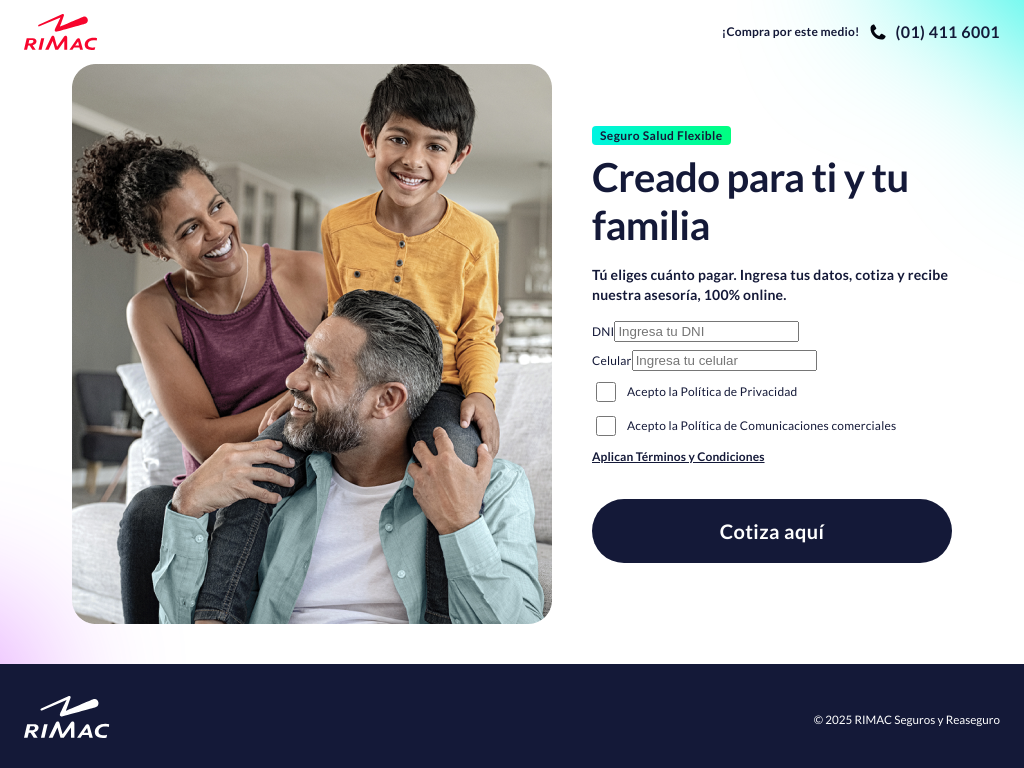
Scenario: Home Form › should show validation errors when submitting empty form
Click the button "Cotiza aquí" at (772, 531), box [592, 499, 952, 563]
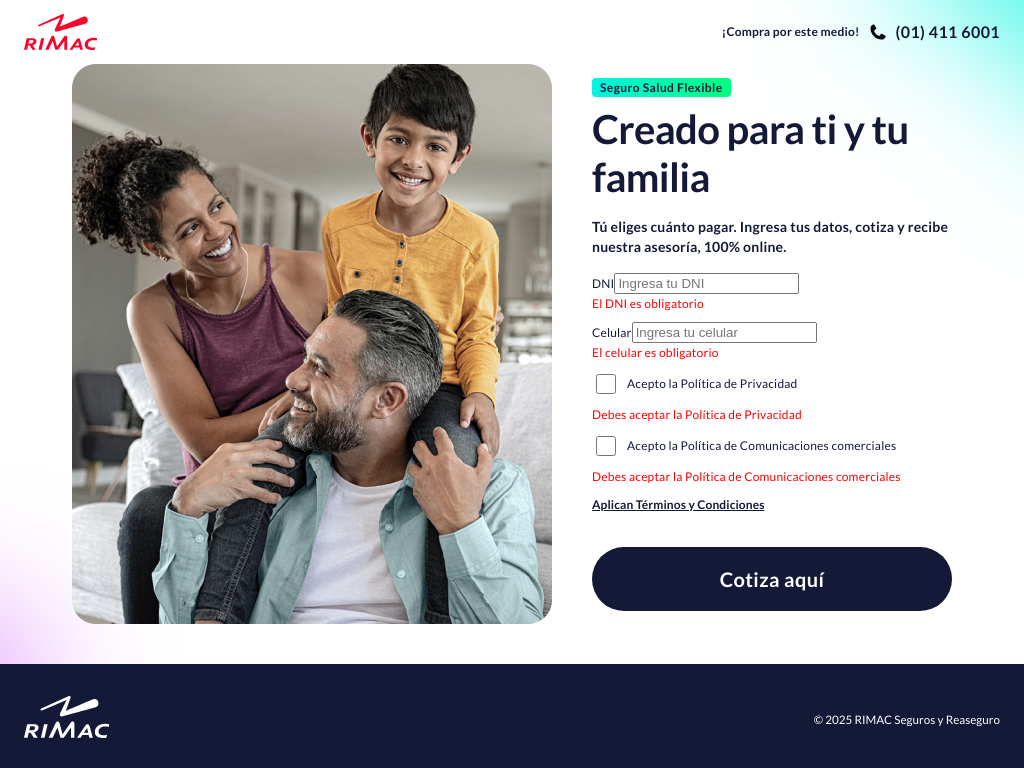
Expected: the text "El DNI es obligatorio" is shown, [592, 296, 704, 311]
Expected: the text "El celular es obligatorio" is shown, [592, 345, 719, 360]
Expected: the text "Debes aceptar la Política de Privacidad" is shown, [592, 407, 802, 422]
